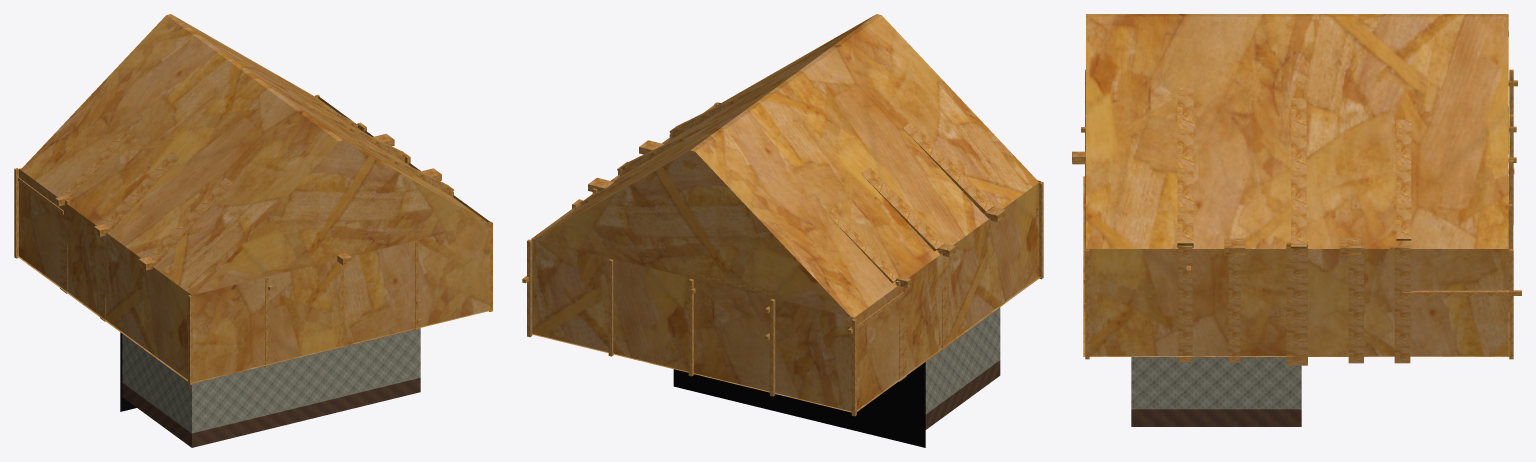
Rendered from attic.dae.
3 renders of one model, left to right at view 1: azimuth 30°, elevation 25°; view 2: azimuth 150°, elevation 25°; view 3: azimuth 270°, elevation 25°, orthographic. The views are drawn at different scales.
Parts seen in each view (by area): view 1: Ceiling-col, Wall-col, House-col, Beam.054, Beam.055, Floor-col, Beam.056, Beam.059, Beam.058, Beam.002; view 2: Ceiling-col, Wall-col, HouseRoof, House-col, Beam.054, Beam.055, Floor-col, Beam.056, Beam.059, Beam.058, Beam.020-col, Beam.019-col (+4 smaller); view 3: Ceiling-col, Wall-col, House-col, Beam.059, Beam.005, Beam.058, Beam.003, Beam.057, Beam.004, Beam.008, Beam.006, Floor-col (+3 smaller).
Part boxes in pixels (x1,y1,x2,y2): Ceiling-col: [20, 14, 487, 294]; Wall-col: [19, 96, 490, 382]; House-col: [122, 328, 420, 447]; Beam.054: [149, 177, 233, 262]; Beam.055: [102, 152, 179, 229]; Floor-col: [17, 256, 492, 383]; Beam.056: [63, 131, 129, 197]; Beam.059: [345, 134, 453, 195]; Beam.058: [305, 104, 407, 161]; Beam.002: [60, 199, 70, 293]; Ceiling-col: [534, 14, 1038, 317]; Wall-col: [531, 102, 1040, 411]; HouseRoof: [673, 362, 925, 447]; House-col: [925, 307, 1000, 429]; Beam.054: [903, 122, 994, 213]; Beam.055: [861, 167, 944, 251]; Floor-col: [532, 277, 1040, 412]; Beam.056: [827, 209, 898, 283]; Beam.059: [669, 72, 786, 137]; Beam.058: [617, 112, 730, 174]; Beam.020-col: [608, 259, 613, 356]; Beam.019-col: [770, 299, 775, 396]; Ceiling-col: [1086, 14, 1508, 248]; Wall-col: [1086, 249, 1508, 355]; House-col: [1131, 357, 1301, 426]; Beam.059: [1177, 88, 1193, 247]; Beam.005: [1286, 242, 1307, 365]; Beam.058: [1291, 97, 1306, 248]; Beam.003: [1394, 245, 1410, 363]; Beam.057: [1396, 119, 1411, 240]; Beam.004: [1348, 245, 1363, 363]; Beam.008: [1178, 245, 1192, 362]; Beam.006: [1228, 255, 1240, 362]; Floor-col: [1083, 176, 1509, 356].
Size of what is drawn, in the model's own units: 42.36 by 42.92 by 39.18.
Materials: 5 (4 with a texture image).
